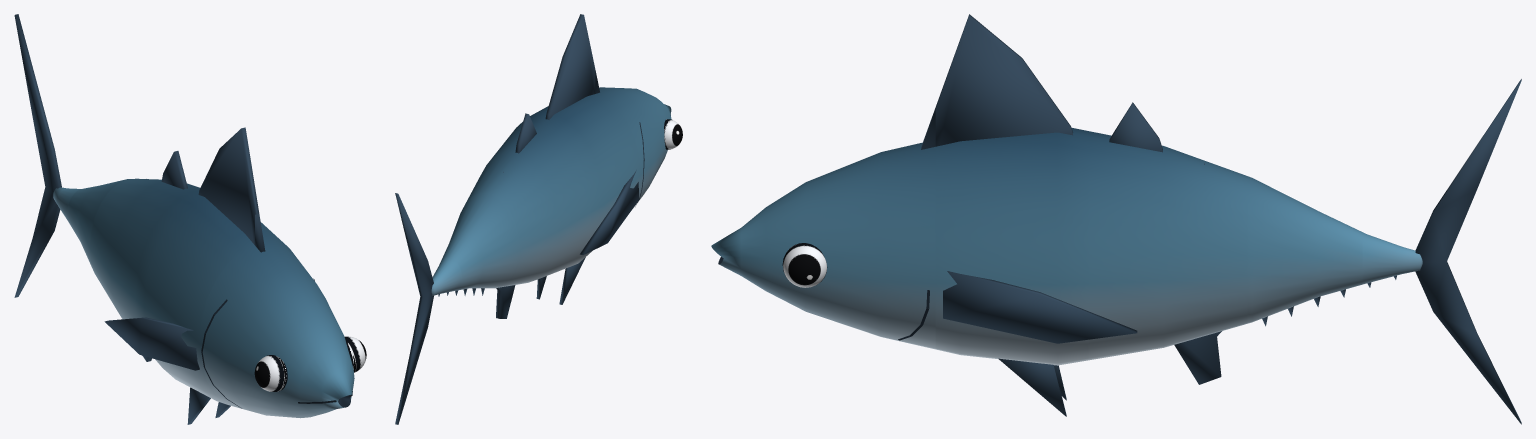
File: Tuna_v2_Split.glb
The picture shows the model from 3 angles, left to right: view 1: azimuth 30°, elevation 25°; view 2: azimuth 150°, elevation 25°; view 3: azimuth 270°, elevation 25°; orthographic projection. The views are drawn at different scales.
Visible parts, largest first — view 1: Tuna_Part_01_Head, Tuna_Part_02_Front, Tuna_Part_03_Mid, Tuna_Part_05_Tail, Tuna_Part_04_Rear; view 2: Tuna_Part_03_Mid, Tuna_Part_02_Front, Tuna_Part_04_Rear, Tuna_Part_01_Head, Tuna_Part_05_Tail; view 3: Tuna_Part_02_Front, Tuna_Part_03_Mid, Tuna_Part_01_Head, Tuna_Part_04_Rear, Tuna_Part_05_Tail.
Boxes of the visible parts, x1,y1,x2,y2 form: Tuna_Part_01_Head: [199, 214, 366, 418]; Tuna_Part_02_Front: [104, 127, 297, 424]; Tuna_Part_03_Mid: [90, 151, 200, 361]; Tuna_Part_05_Tail: [14, 14, 80, 297]; Tuna_Part_04_Rear: [67, 178, 138, 274]; Tuna_Part_03_Mid: [464, 113, 590, 318]; Tuna_Part_02_Front: [508, 14, 640, 304]; Tuna_Part_04_Rear: [441, 193, 520, 295]; Tuna_Part_01_Head: [595, 70, 682, 207]; Tuna_Part_05_Tail: [395, 193, 461, 424]; Tuna_Part_02_Front: [935, 14, 1137, 416]; Tuna_Part_03_Mid: [1088, 102, 1247, 384]; Tuna_Part_01_Head: [711, 108, 935, 349]; Tuna_Part_04_Rear: [1247, 176, 1362, 326]; Tuna_Part_05_Tail: [1362, 79, 1521, 424].
Size of the model in its own units: 0.231 by 0.51 by 0.917.
5 materials, 2 textured.
